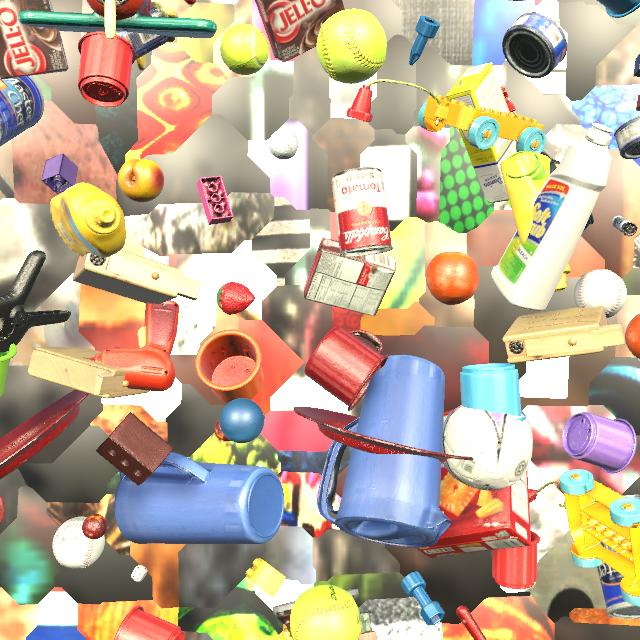ycb_002_master_chef_can: (597, 495, 640, 619), (0, 76, 44, 146)
ycb_003_cracker_box: (415, 409, 532, 558)
ycb_004_sugar_box: (446, 62, 517, 203)
ycb_005_tomato_soup_can: (331, 167, 393, 257)
ycb_006_mustard_bottle: (500, 152, 573, 291), (50, 183, 126, 257)
ycb_007_tuna_fish_can: (502, 12, 567, 78), (614, 116, 640, 159)
ycb_008_pudding_box: (304, 237, 396, 316), (255, 0, 345, 62), (0, 0, 68, 79)
ycb_010_potted_meat_can: (86, 2, 175, 60)
ycb_012_strawberry: (217, 282, 255, 315)
ycb_015_peach: (118, 159, 164, 202)
ycb_017_orange: (425, 252, 479, 305), (625, 314, 640, 359)
